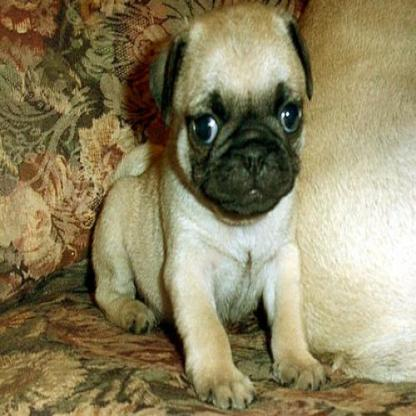pug: (91, 13, 325, 408)
